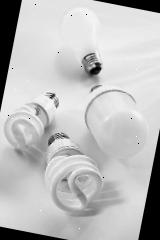lightbulb: (76, 80, 156, 163), (36, 130, 111, 218), (51, 3, 112, 77), (0, 83, 60, 155)
